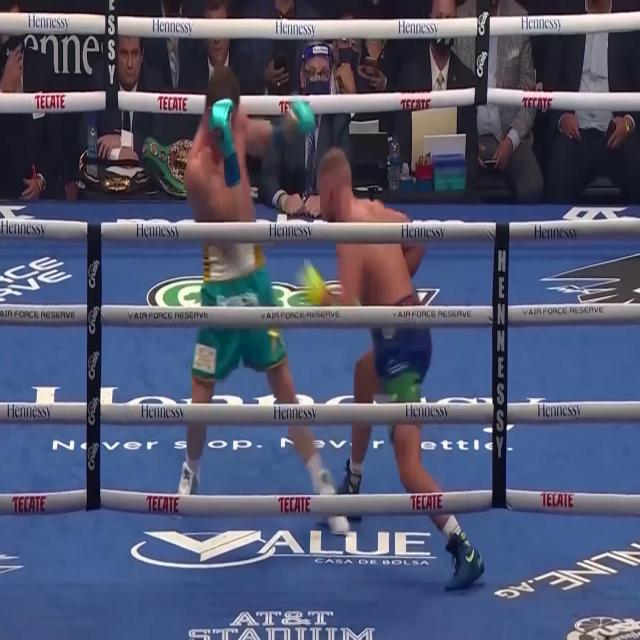boxer_1: (319, 146, 426, 340)
boxer_2: (183, 63, 266, 285)
gloves_1: (303, 262, 327, 304)
gloves_2: (209, 97, 240, 185), (273, 97, 316, 140)
